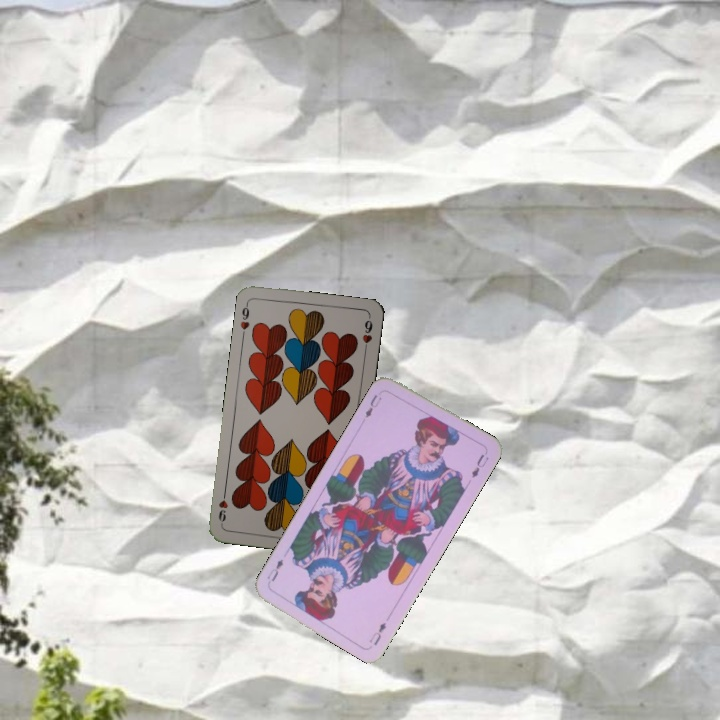EU: (365, 618, 389, 648), (361, 390, 384, 420)
H9: (236, 298, 252, 339)
